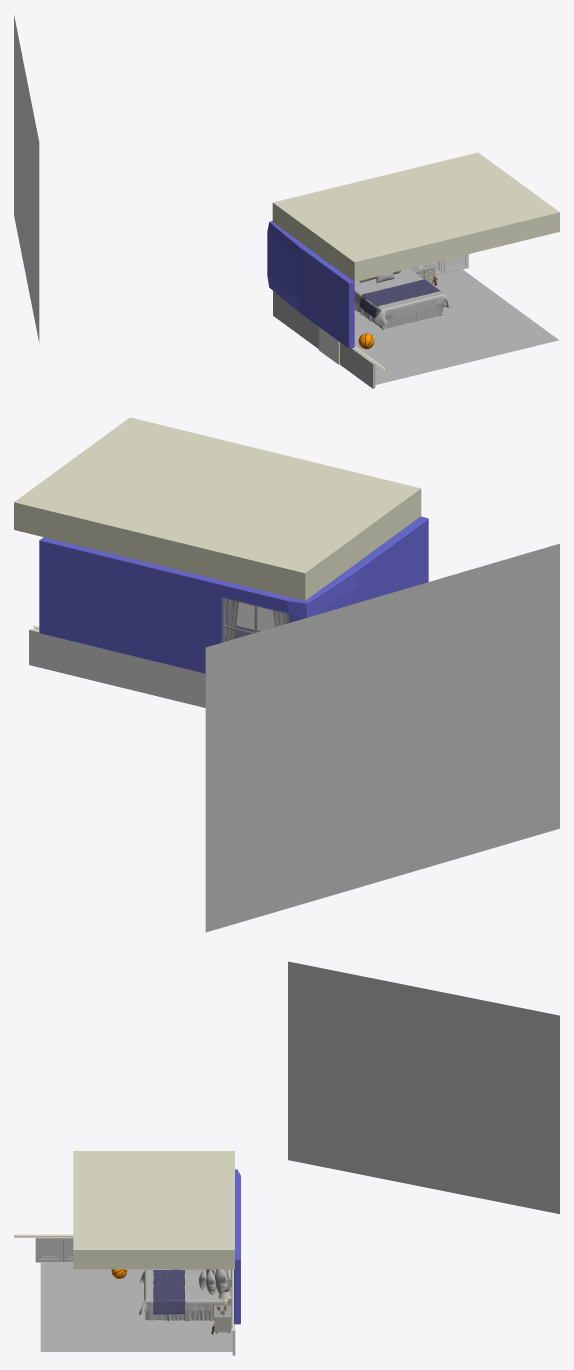
File: Sketuchup.fbx
The picture shows the model from 3 angles, top to bottom: view 1: azimuth 30°, elevation 25°; view 2: azimuth 150°, elevation 25°; view 3: azimuth 270°, elevation 25°; orthographic projection. The views are drawn at different scales.
Parts seen in each view (by area): view 1: Techo, Piso, Pared_Estrellas, Plane001, Cama_pPlane18, pCube018, Cama_pPlane14, pCube11; view 2: Plane001, Techo, Pared_Estrellas, pCube16, pCube12, pCube5, pCube11, pCube7, pCube8, Piso; view 3: Plane001, Techo, Piso, Cama_pPlane18, pCube018, Pared_Estrellas, pCube11, pPlane17_Cama.
Part boxes in pixels (x1,y1,x2,y2): Techo: (272,152,559,281); Piso: (354,269,558,384); Pared_Estrellas: (267,221,354,348); Plane001: (14,15,39,342); Cama_pPlane18: (354,268,452,326); pCube018: (360,279,440,317); Cama_pPlane14: (382,306,442,329); pCube11: (359,353,375,388); Plane001: (205,543,559,932); Techo: (14,417,421,600); Pared_Estrellas: (39,516,428,673); pCube16: (224,599,287,641); pCube12: (29,628,63,673); pCube5: (166,664,200,706); pCube11: (63,639,97,681); pCube7: (97,647,131,689); pCube8: (132,656,165,698); Piso: (237,602,274,628); Plane001: (288,961,559,1213); Techo: (73,1151,234,1269); Piso: (40,1262,232,1351); Cama_pPlane18: (139,1270,227,1315); pCube018: (153,1269,185,1314); Pared_Estrellas: (234,1169,240,1324); pCube11: (35,1238,62,1262); pPlane17_Cama: (145,1288,230,1321).
Bounding box in the file's own units: 1229 × 579 × 1428.
49 materials, 5 textured.
